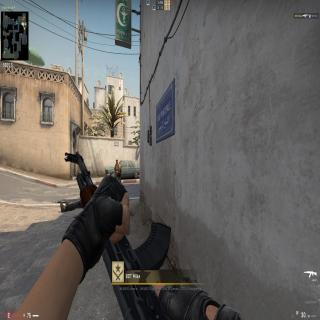T-Head: (115, 159, 118, 165)
